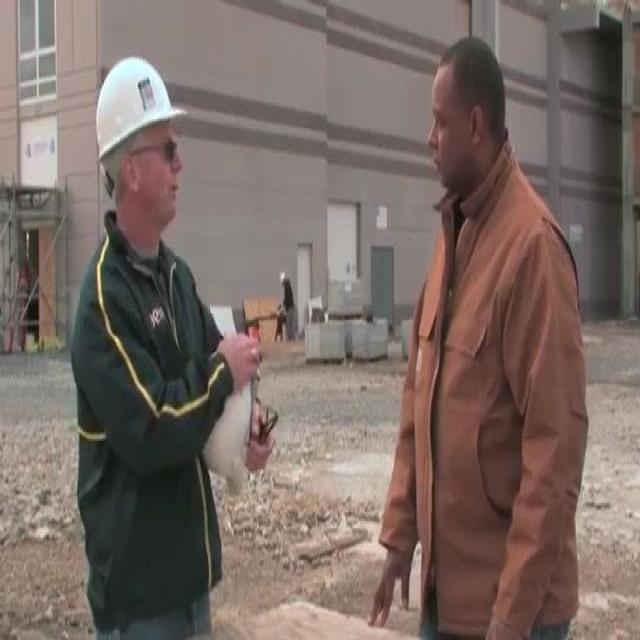Helmet: (87, 55, 189, 232)
NoHelmet: (420, 36, 510, 192)
NoVest: (396, 194, 593, 606), (66, 241, 238, 598)
